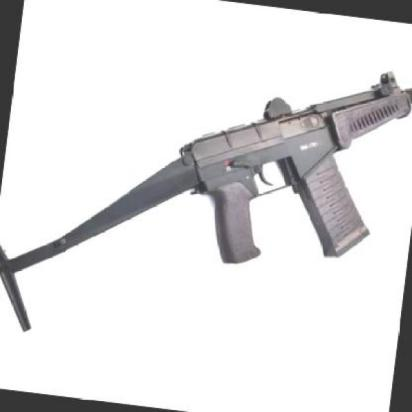Gun: (0, 20, 412, 387)
